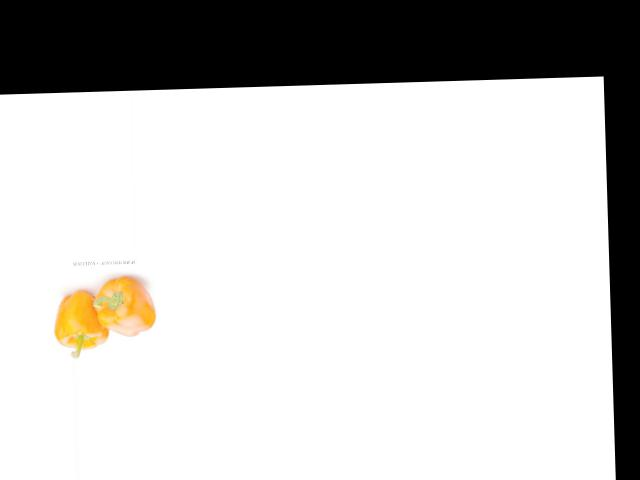bell_pepper: (90, 269, 158, 339)
